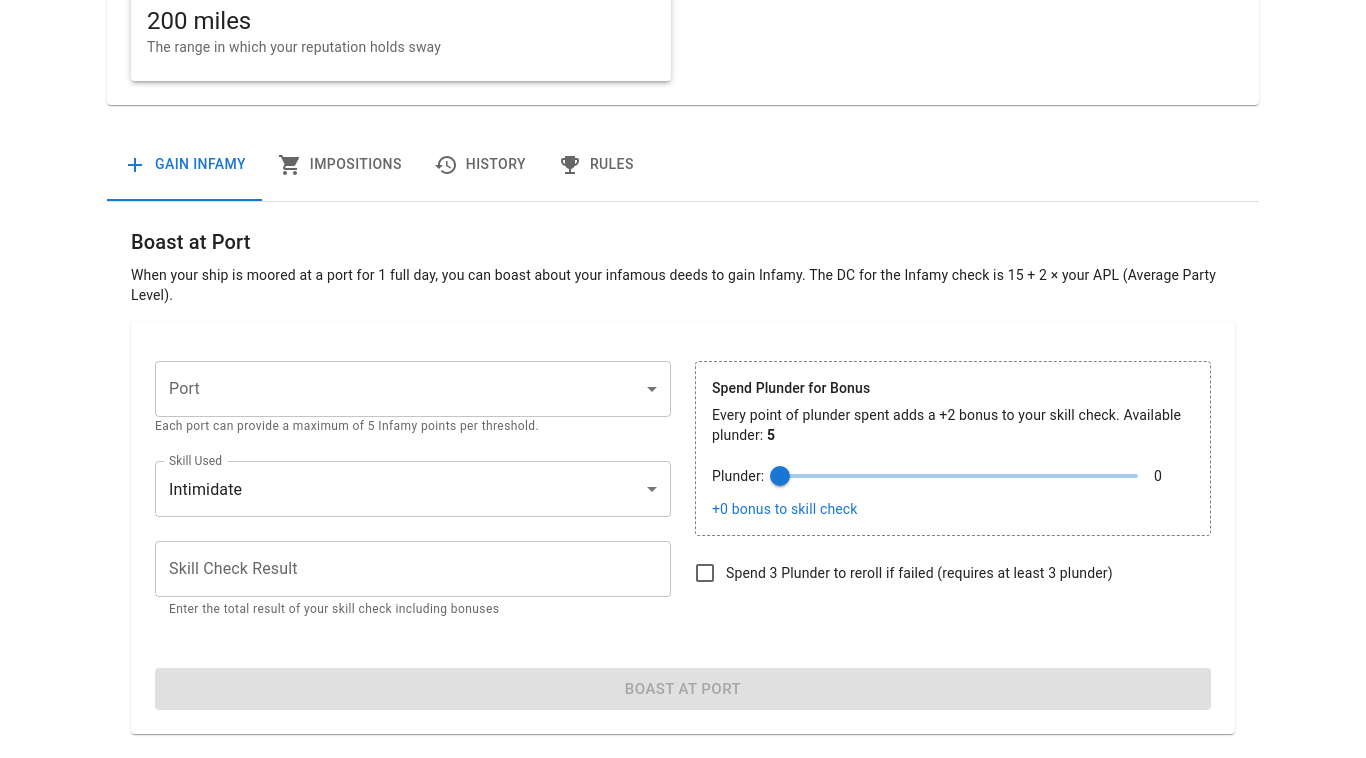
Test: Infamy › a failed boast reports the check, refreshes plunder and history and resets the form
(page scrolled)
Step 1. Click the dropdown named "Port" → (413, 389), box [155,361,671,417]
(page scrolled)
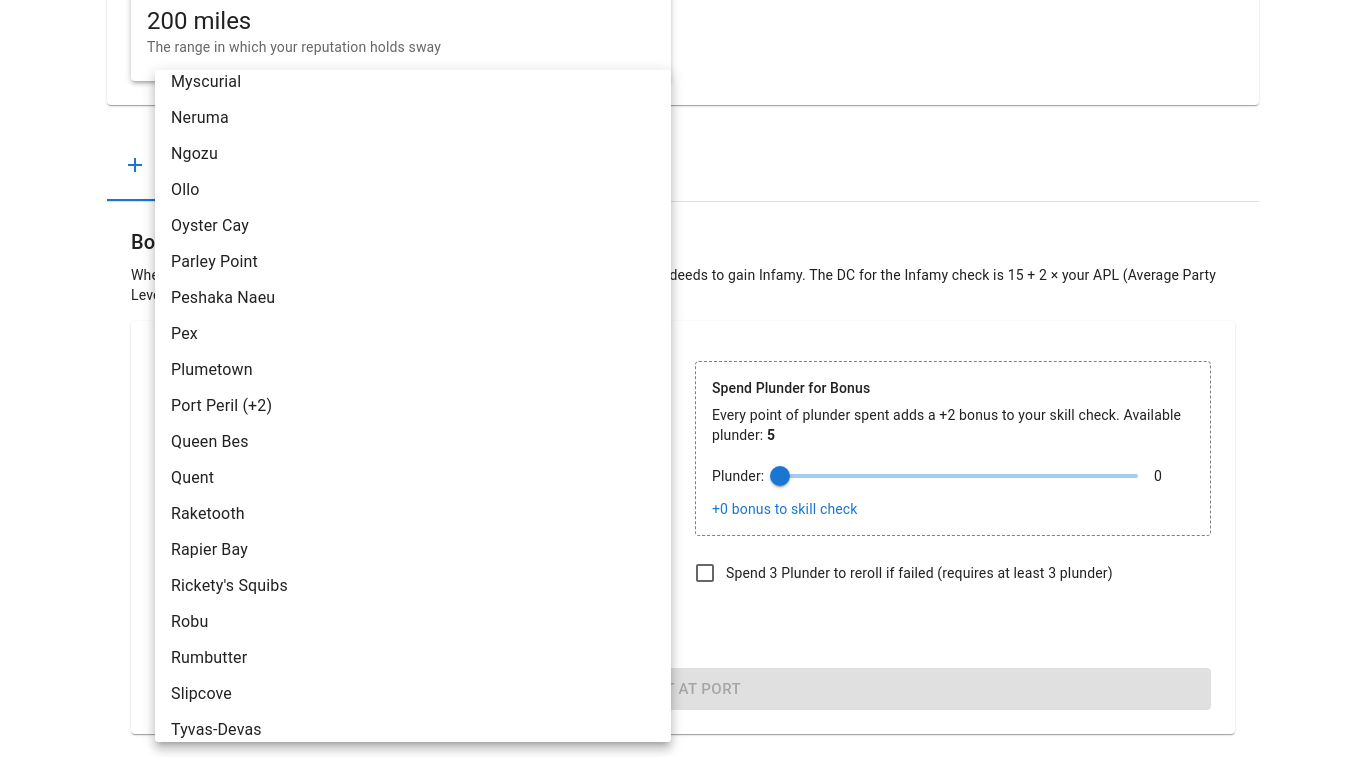
Step 2. Click the option "Port Peril (+2)" → (222, 406), box [171,396,272,415]
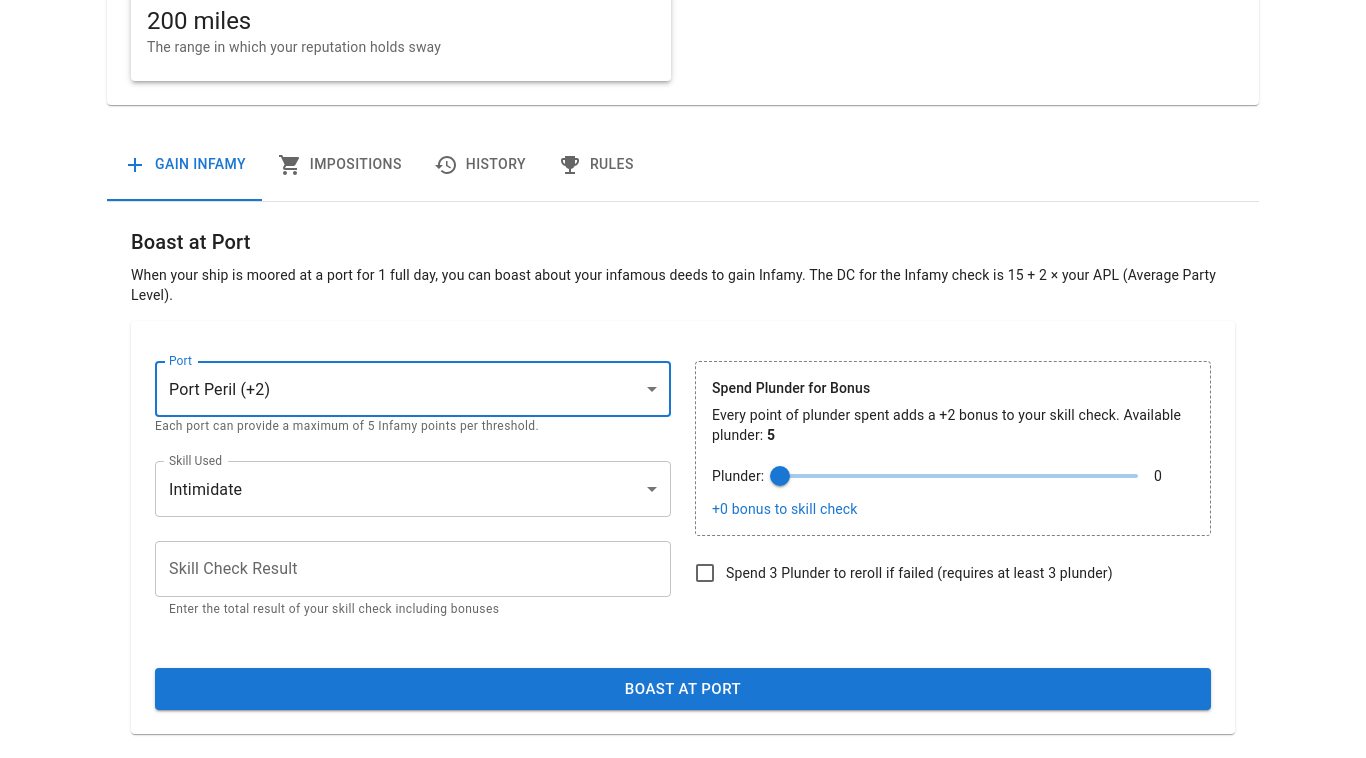
Step 3. Type "12" into the number field labelled "Skill Check Result" → (413, 569), box [155,541,671,597]
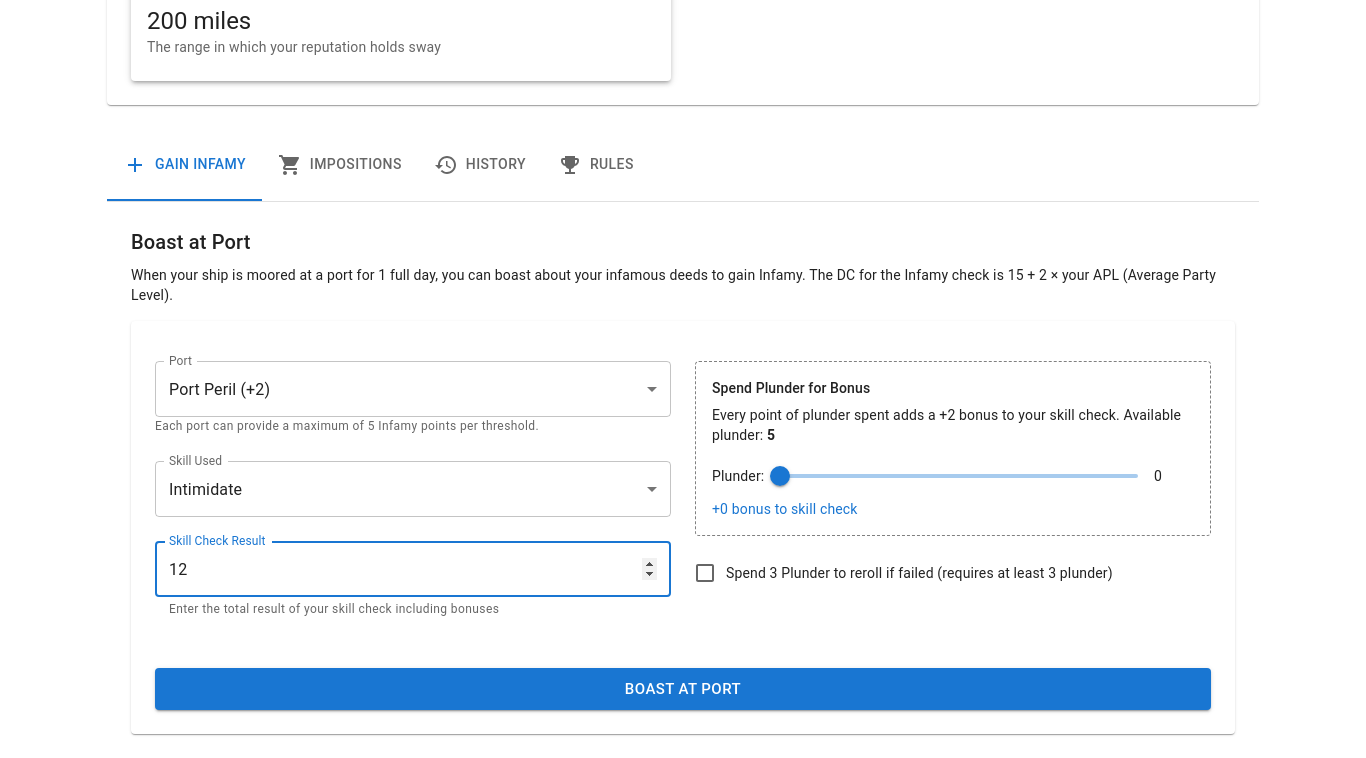
Step 4. Click the button "Boast at Port" → (683, 689), box [155,668,1211,710]
(page scrolled)
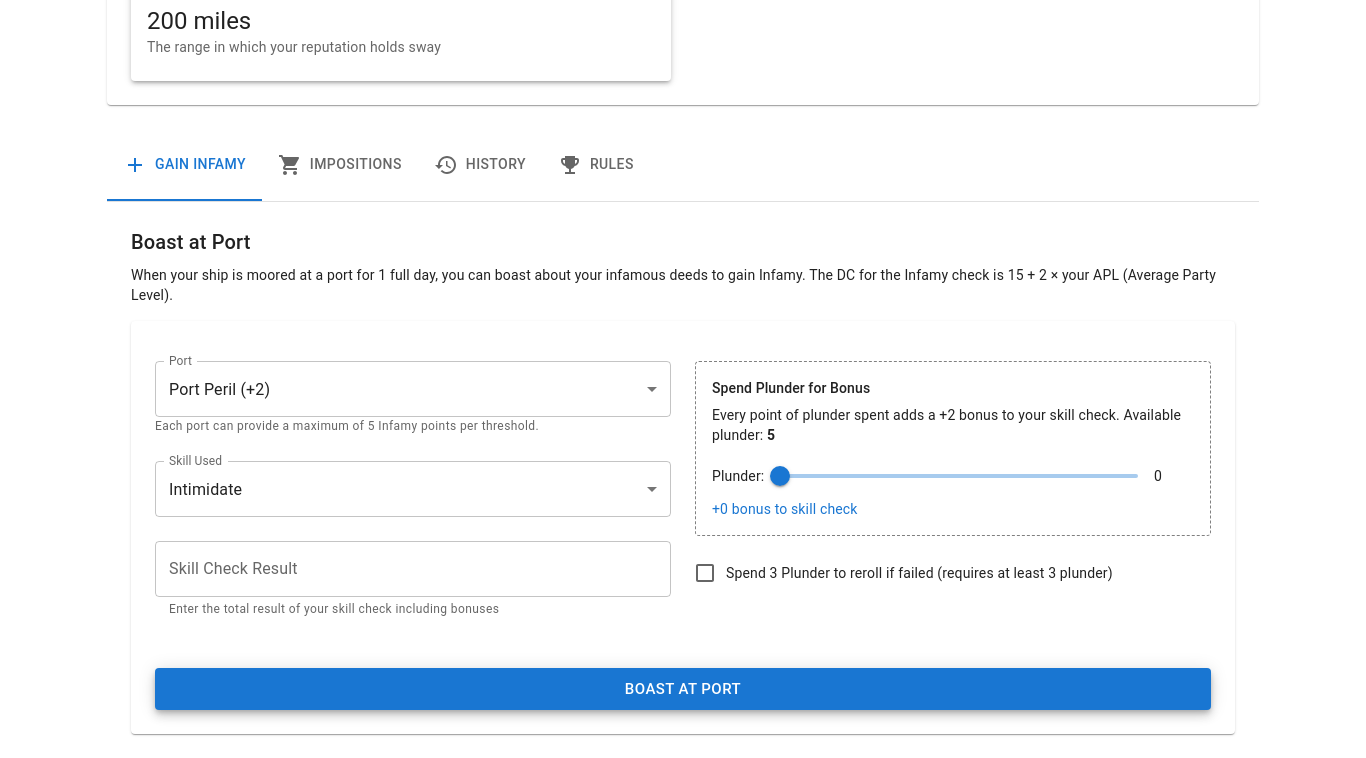
Check: the number field labelled "Skill Check Result" is not empty, box [155,541,671,597]
